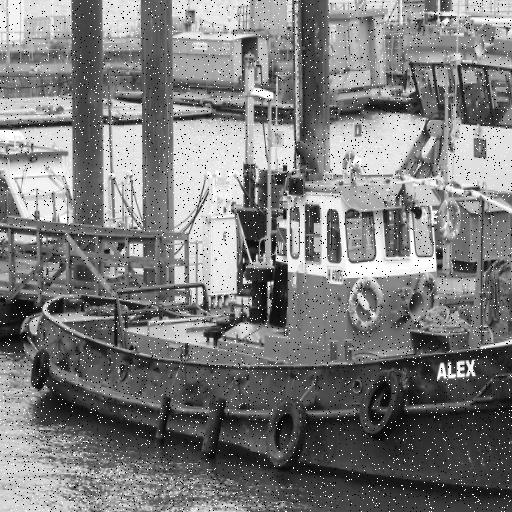tugboat: (17, 148, 512, 512)
